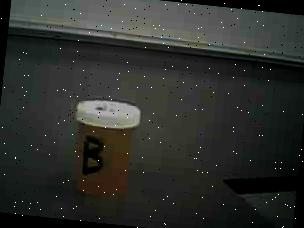Bottle B: (61, 92, 150, 206)
